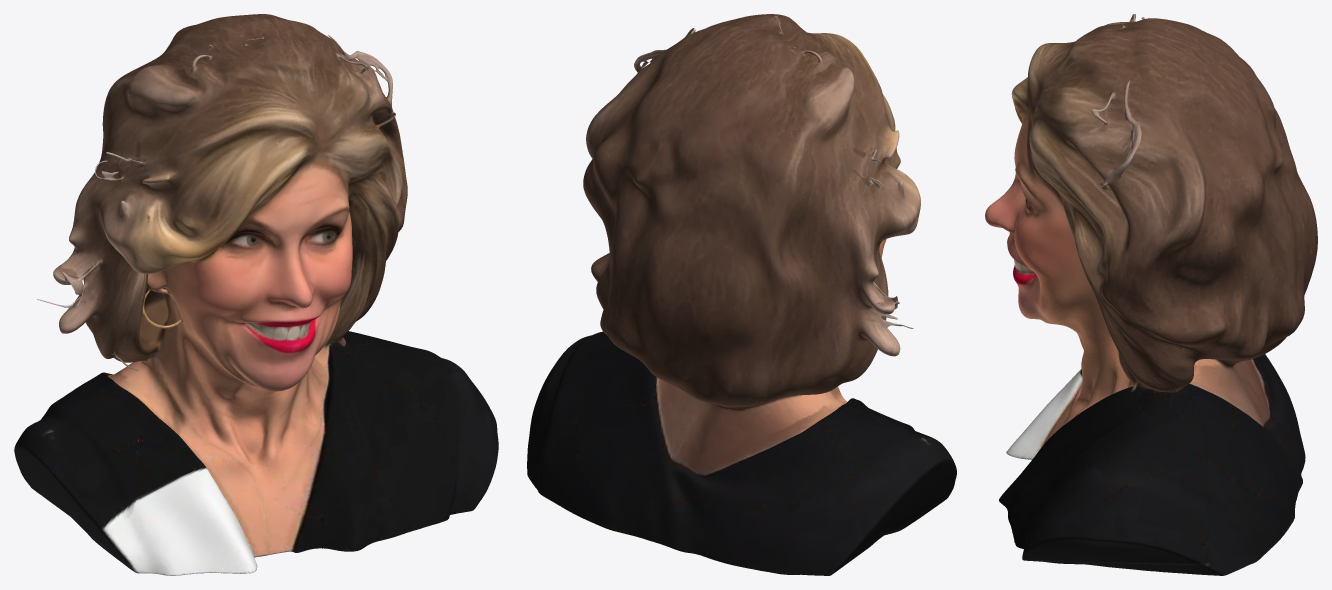
The model's file is Christine_Baranski.glb.
The picture shows the model from 3 angles, left to right: view 1: azimuth 30°, elevation 25°; view 2: azimuth 150°, elevation 25°; view 3: azimuth 270°, elevation 25°; orthographic projection. The views are drawn at different scales.
Bounding box in the file's own units: 1.76 × 1.9 × 1.24.
1 material, 1 textured.
